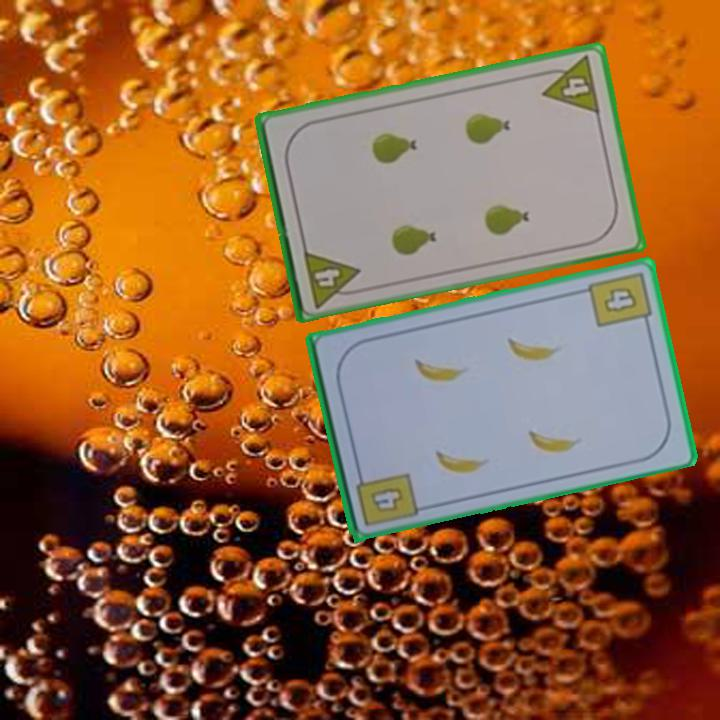4b: (585, 267, 654, 331), (352, 465, 421, 529)
4p: (535, 52, 603, 117), (300, 246, 366, 311)
